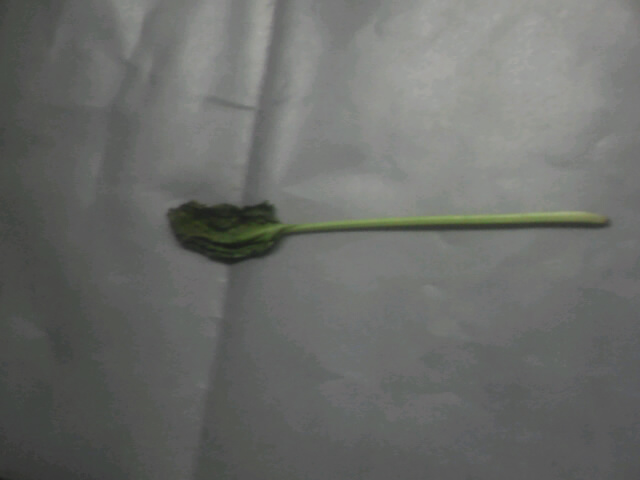yellow: (152, 172, 612, 281)
